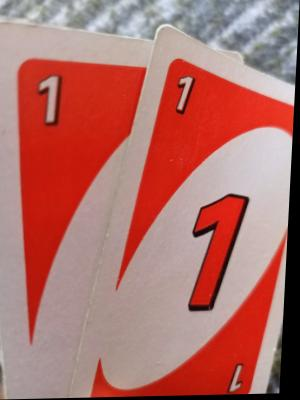num_1: (27, 65, 92, 133), (226, 348, 259, 396)
